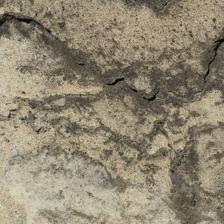Crack: (3, 7, 216, 98)
